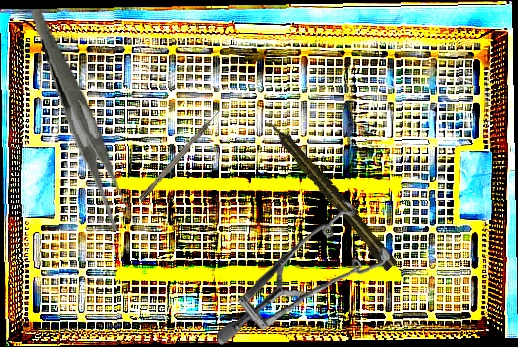Dressing Forceps: (30, 3, 138, 236)
Handpiece: (263, 115, 399, 273)
Hook Surgical: (137, 109, 223, 202)
Speculum: (210, 197, 395, 346)
